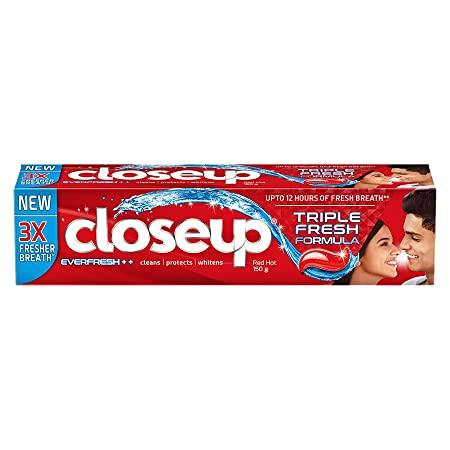CloseUp: (14, 164, 435, 285)
